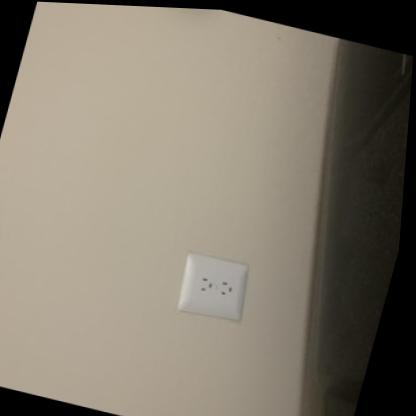OUTLET: (172, 249, 254, 323)
